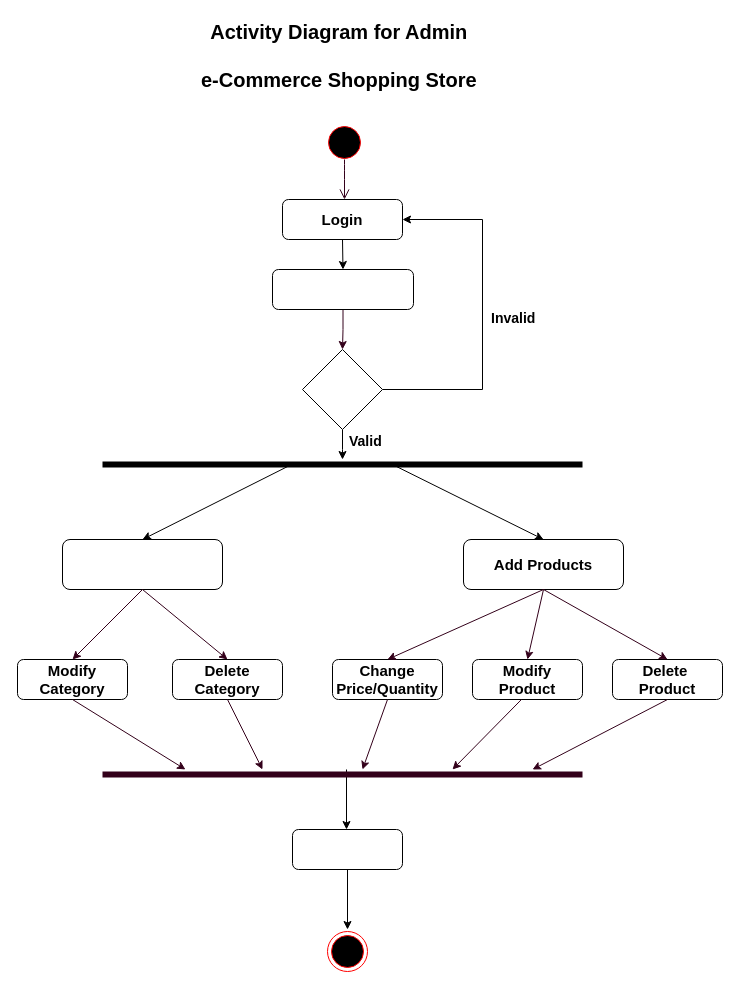
Image size: 740x989. Some labels were removed from this diagram. Here are the shapes that lost their labels. From the top down, the centre of each, then its label:
[343,289]: Authentication
[342,389]: Check
[142,564]: Add Categories
[347,849]: Logout
